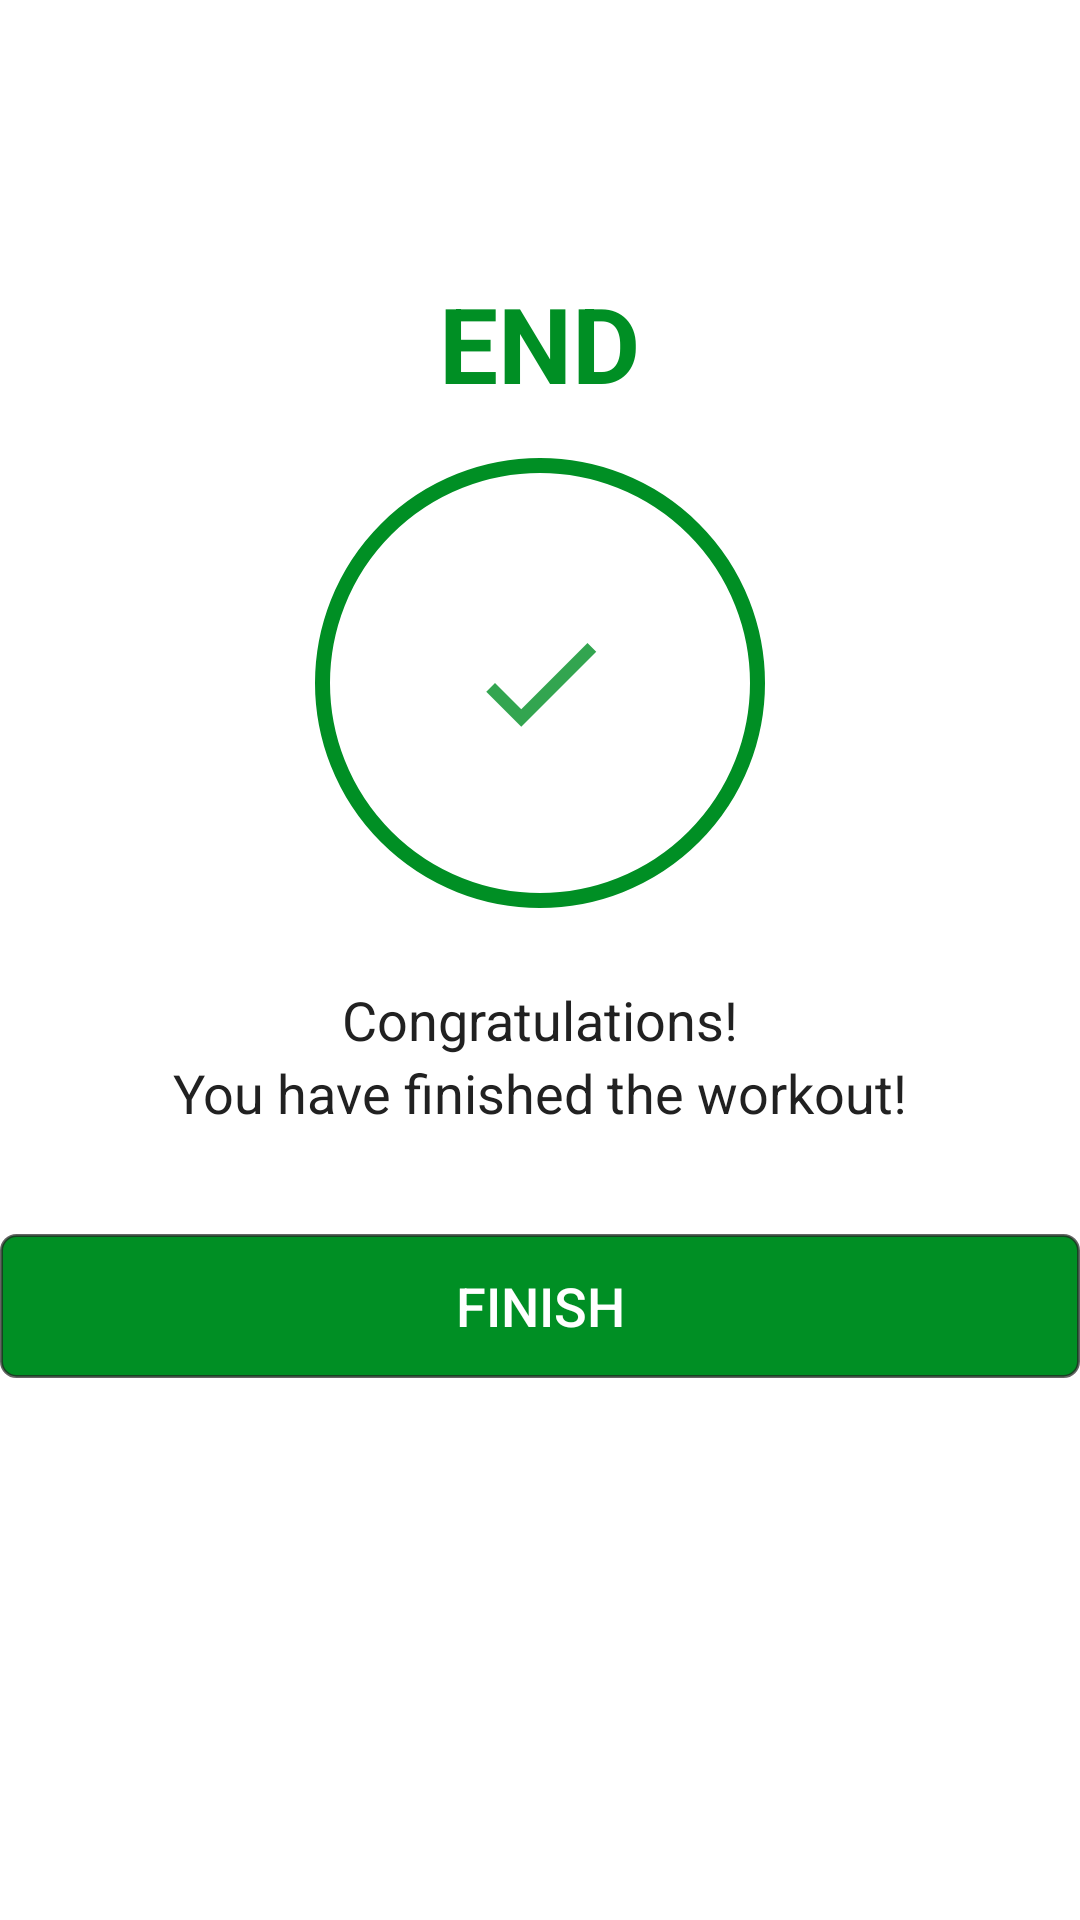

Icon click points for this 1080x1920 phone screenshot, format point (x, y):
done: point (541, 685)
